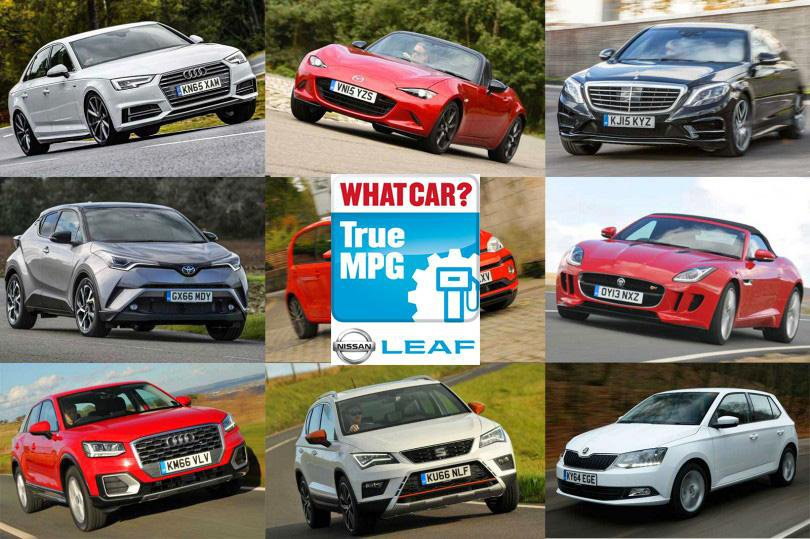Car: (14, 377, 256, 525), (282, 374, 517, 525), (554, 201, 802, 338), (562, 19, 802, 155), (9, 200, 248, 335), (8, 21, 256, 150), (554, 389, 801, 513), (287, 31, 520, 153)
